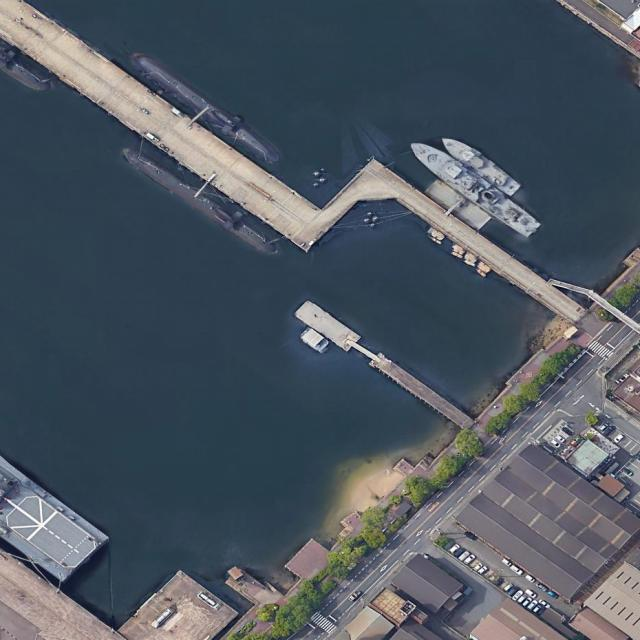Other Warship: (404, 134, 544, 242), (436, 131, 523, 200)
Submarine: (126, 46, 283, 170), (119, 142, 281, 258)
